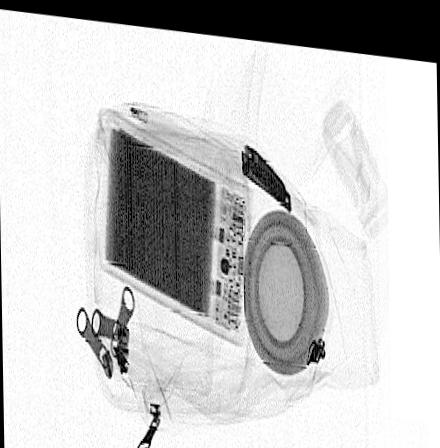Powerbank: (100, 107, 251, 339)
